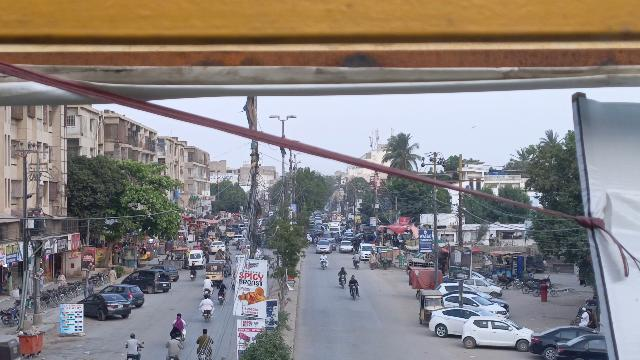Bike: (196, 348, 213, 360), (349, 284, 360, 300), (338, 274, 348, 290), (201, 310, 212, 324), (217, 292, 227, 306), (202, 288, 214, 299), (320, 259, 329, 271), (189, 270, 196, 282), (353, 261, 361, 269)
Car: (459, 315, 531, 351), (530, 322, 589, 359), (429, 306, 489, 340), (553, 331, 607, 360), (446, 293, 507, 317), (77, 294, 131, 320), (123, 268, 172, 294), (102, 283, 145, 308)
Person: (123, 330, 141, 355), (195, 326, 213, 350), (166, 334, 182, 355), (170, 313, 187, 332), (200, 291, 214, 310), (108, 266, 120, 285), (578, 306, 589, 326), (587, 307, 597, 327), (202, 276, 214, 289), (337, 265, 349, 277), (348, 274, 360, 286), (216, 278, 227, 291), (351, 251, 361, 261), (189, 261, 197, 272), (319, 252, 328, 260)
Rickshaw: (416, 287, 444, 327), (205, 261, 224, 285)
